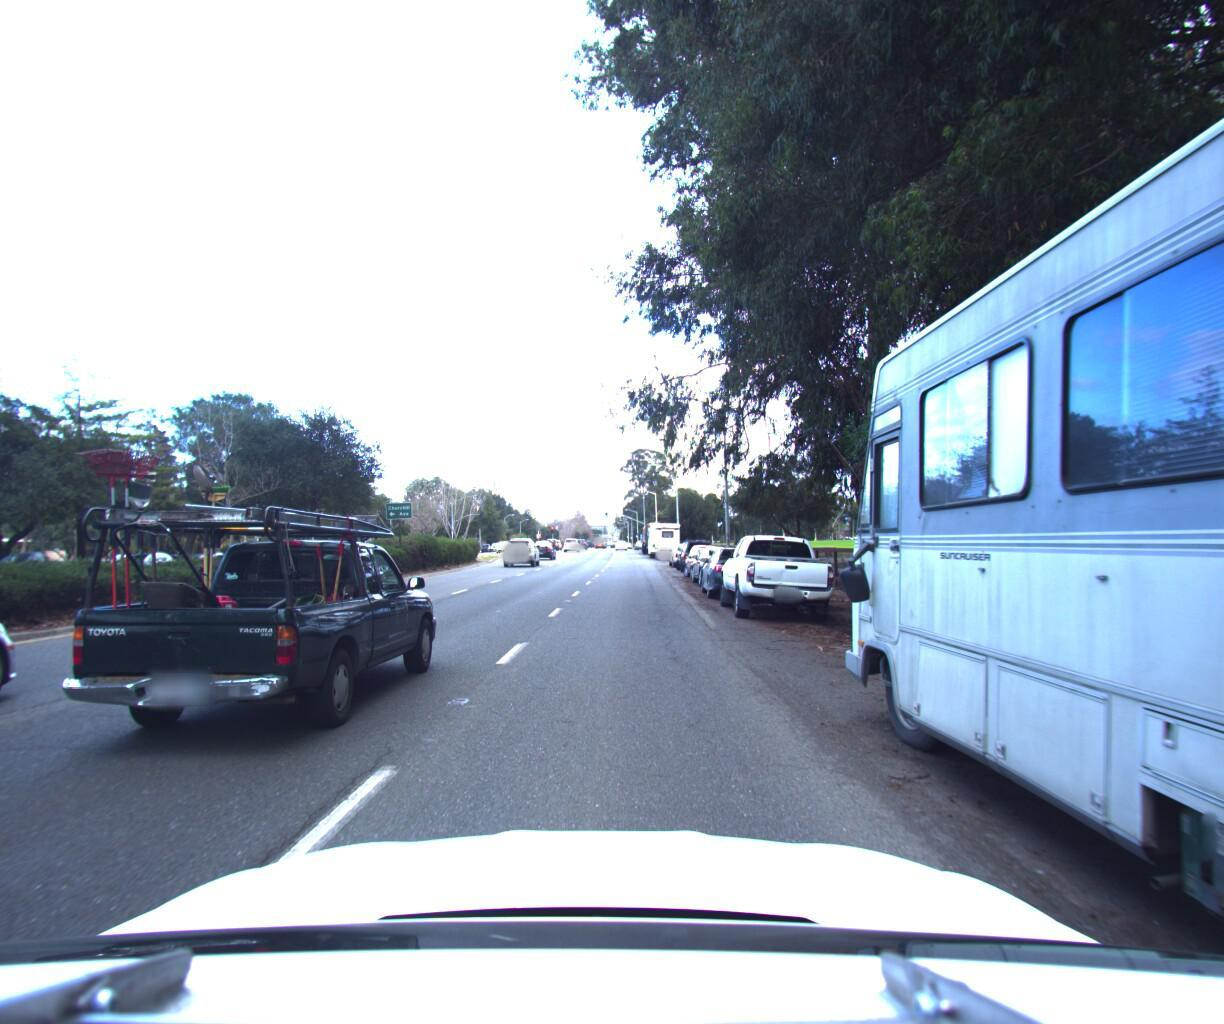car: (30, 425, 446, 771), (0, 538, 44, 849), (711, 522, 839, 622), (693, 536, 779, 597), (687, 536, 751, 583), (682, 537, 730, 574), (679, 531, 723, 570), (674, 526, 714, 565), (502, 530, 541, 560), (666, 533, 703, 561), (530, 532, 558, 553), (654, 533, 679, 552)
other_vehicle: (646, 513, 684, 551)
